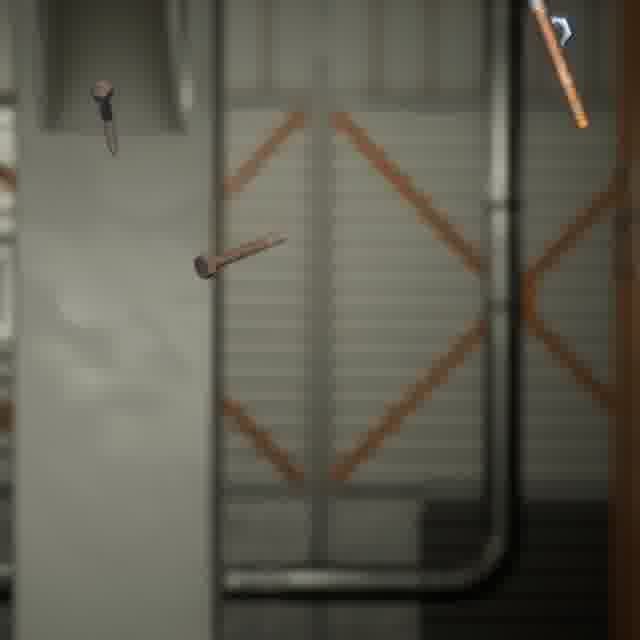bolt: (517, 0, 594, 133), (189, 225, 291, 283), (86, 77, 122, 162)
nut: (545, 9, 580, 51)
